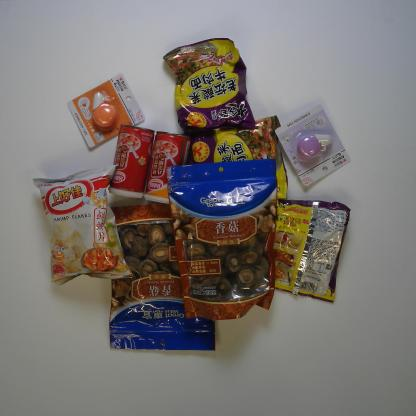Canned Food: (107, 124, 155, 200), (143, 130, 191, 205)
Dried Food: (166, 157, 278, 320), (108, 202, 216, 352)
Instant Noodles: (162, 37, 257, 137), (182, 113, 288, 200), (274, 198, 351, 303)
Puffed Food: (32, 162, 134, 286)
Stationery: (274, 104, 352, 187), (66, 72, 146, 148)
